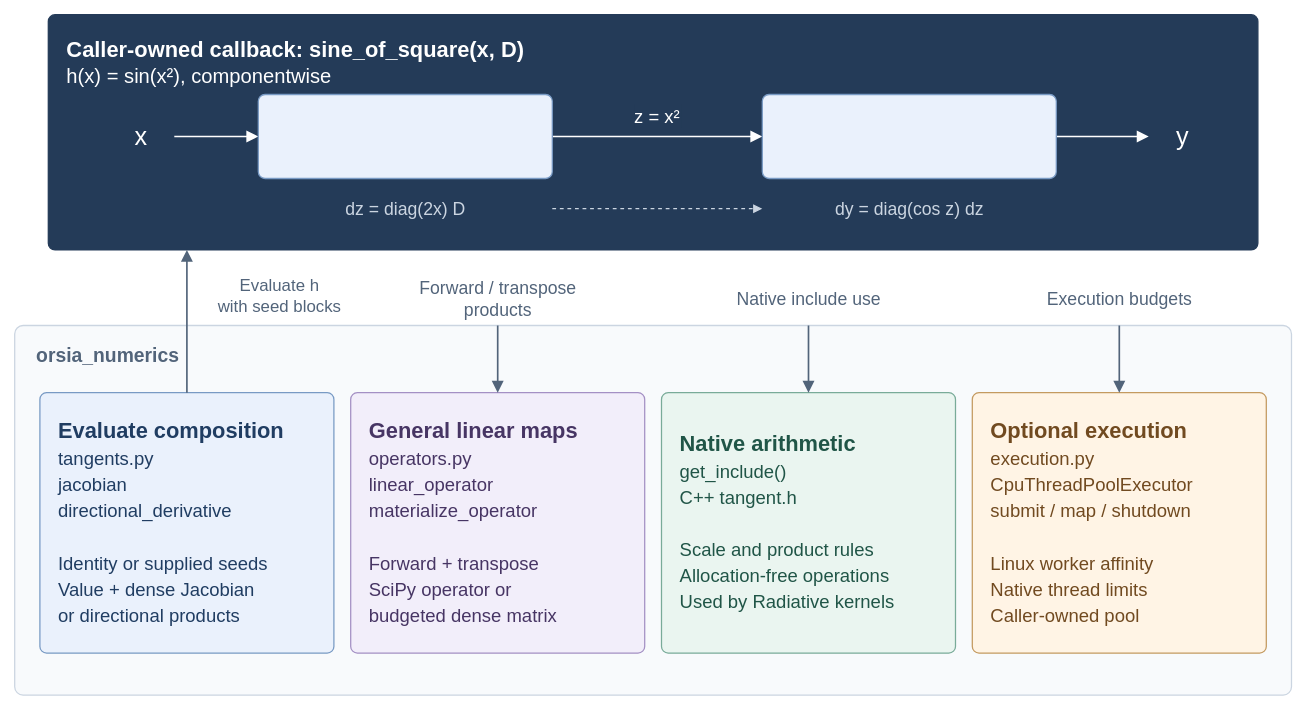
This 1307x711 diagram has some shape labels left out. The centre of each missing label's shape, as x and y in pixels:
"Sine g(z) = sin(z)" goes at pixel 909 136.
"Square f(x) = x²" goes at pixel 405 136.
